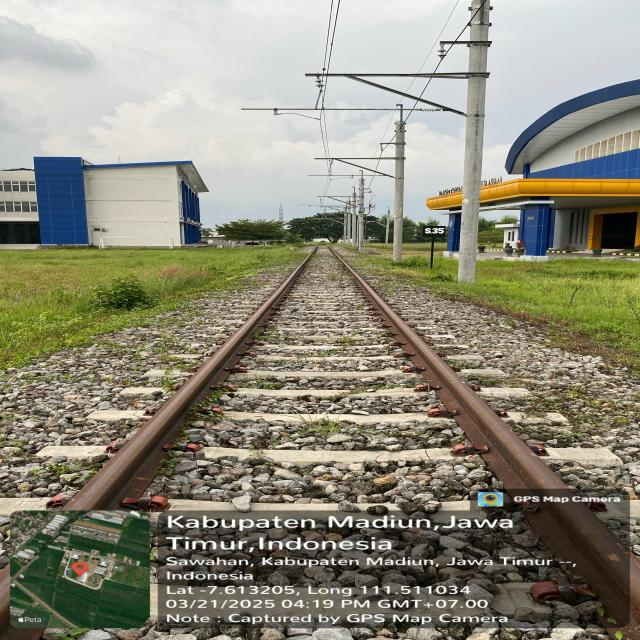rail-detection: (330, 247, 640, 626), (70, 250, 314, 509)
